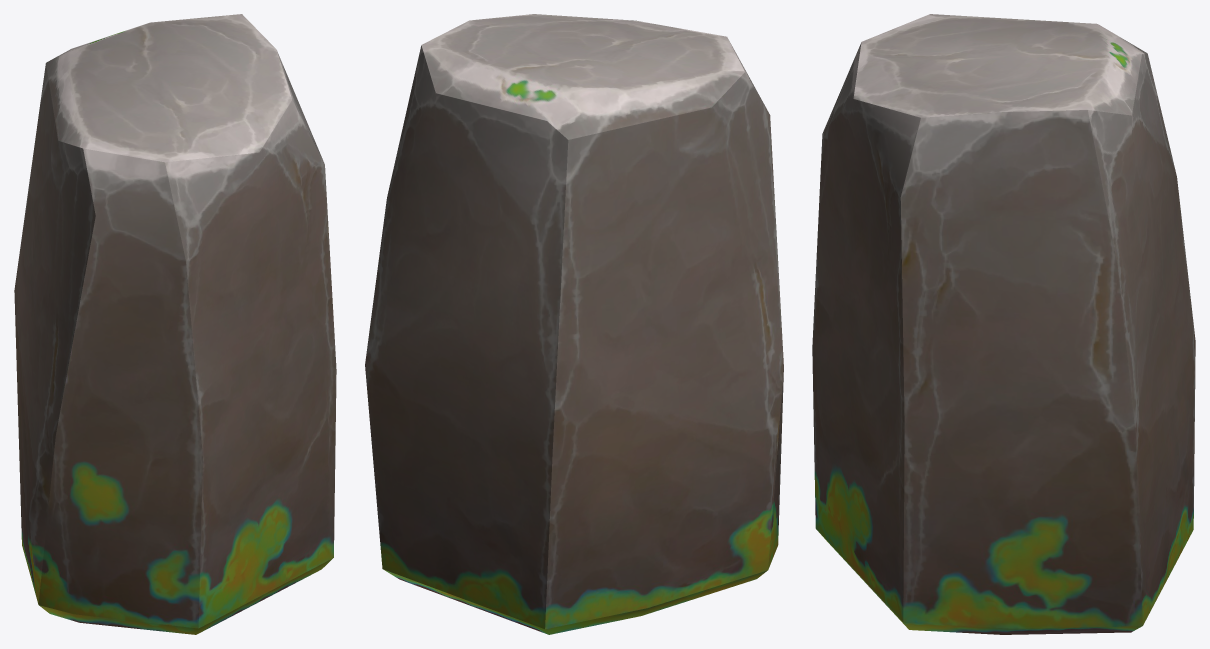
The model's file is ROK0210003.fbx.
The picture shows the model from 3 angles, left to right: view 1: azimuth 30°, elevation 25°; view 2: azimuth 150°, elevation 25°; view 3: azimuth 270°, elevation 25°; orthographic projection. The views are drawn at different scales.
Visible parts, largest first — view 1: smROK0210003; view 2: smROK0210003; view 3: smROK0210003.
Boxes of the visible parts, x1,y1,x2,y2 form: smROK0210003: (14, 14, 336, 634); smROK0210003: (365, 14, 783, 634); smROK0210003: (812, 14, 1195, 634).
Size of the model in its own units: 38.19 by 61.08 by 39.35.
1 material, 1 textured.
